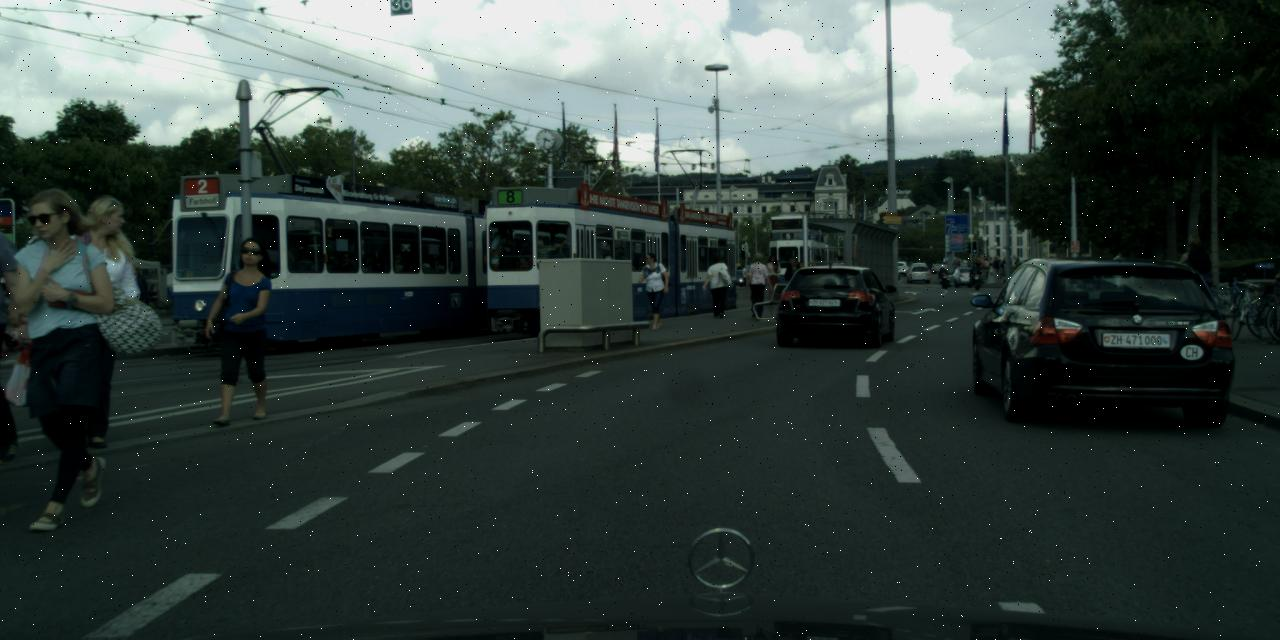ped: (0, 188, 127, 511), (43, 195, 145, 444), (209, 237, 283, 419), (1178, 234, 1211, 314), (639, 252, 669, 328), (744, 252, 770, 317), (705, 255, 729, 316), (762, 255, 782, 306), (784, 256, 804, 306), (794, 261, 811, 305)
